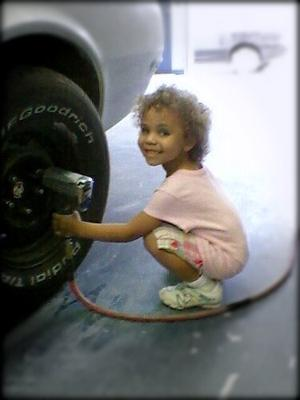person: (54, 84, 251, 311)
